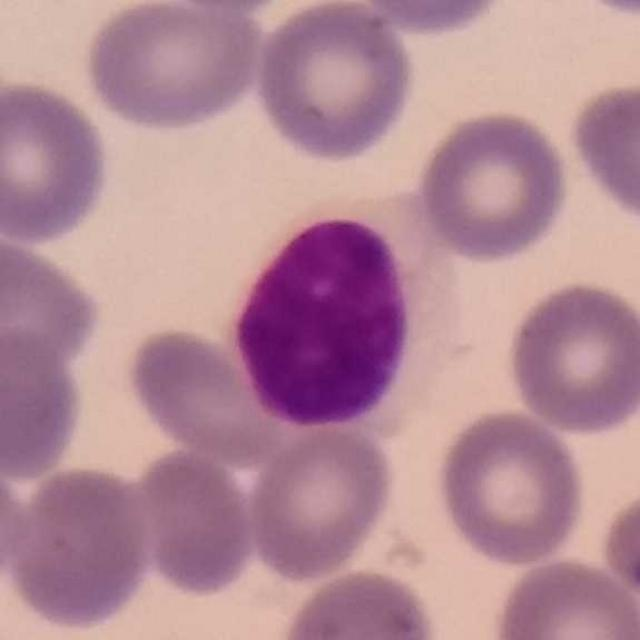Lymphocyte: (225, 208, 474, 434)
Platelets: (576, 0, 639, 20)
RBC: (250, 0, 421, 166), (3, 461, 156, 633), (242, 418, 400, 584), (432, 406, 590, 570), (412, 106, 573, 266), (80, 0, 267, 135), (120, 322, 292, 464), (502, 276, 640, 437), (122, 444, 260, 601), (0, 74, 115, 248), (0, 228, 107, 381), (0, 325, 89, 483), (488, 554, 640, 639), (277, 565, 441, 640), (565, 76, 640, 232), (347, 0, 514, 38), (597, 478, 640, 607), (0, 452, 35, 599), (138, 0, 297, 13), (572, 0, 640, 21)
